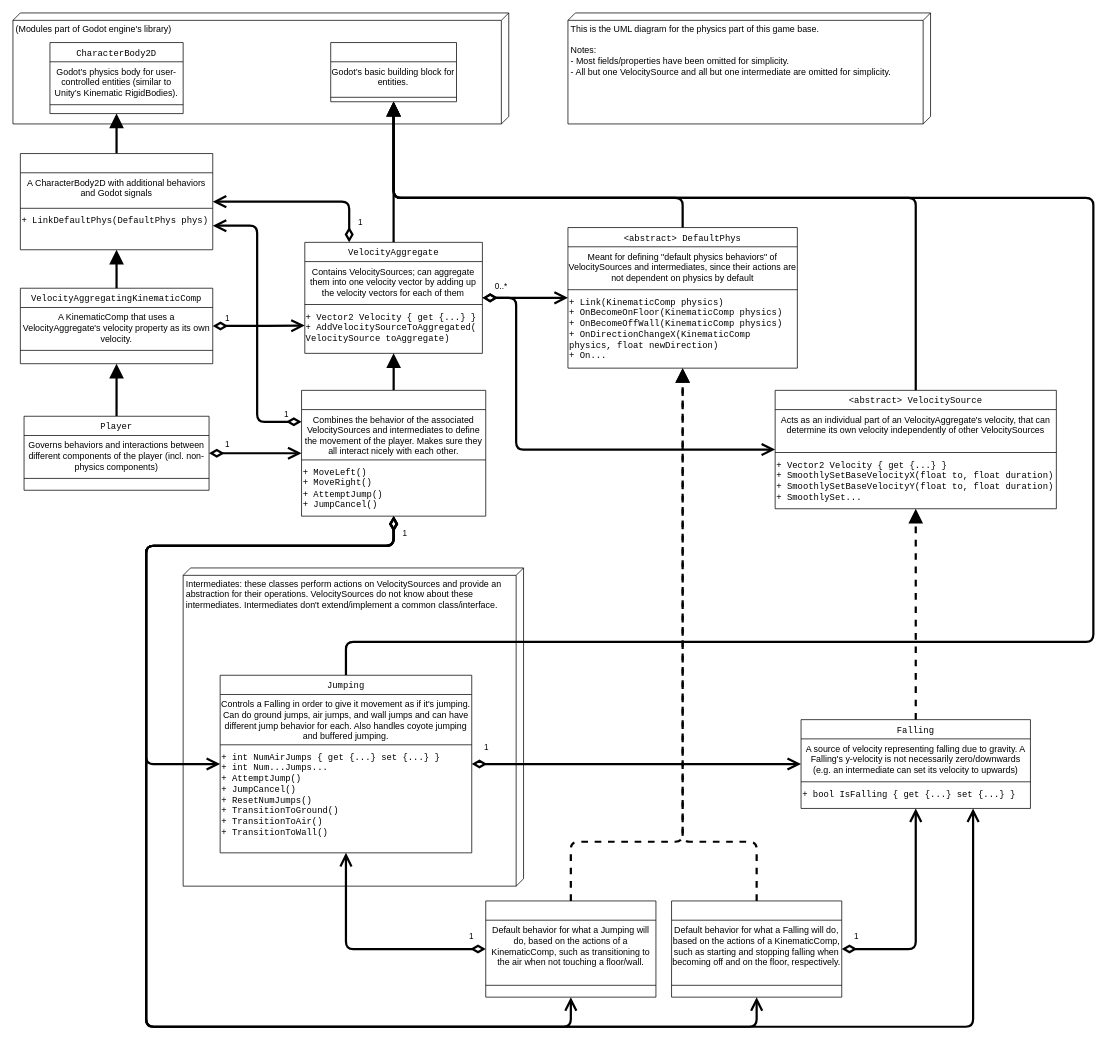
Image size: 1117x1052. Some labels were removed from this diagram. Here are the shapes that lost their labels. From the top down, the box of each, then its label:
(330, 42, 457, 102): Node
(20, 153, 213, 250): KinematicComp
(301, 390, 486, 516): PlayerVelocityAggregate
(485, 900, 656, 997): JumpingDefaultPhys
(671, 900, 842, 997): FallingDefaultPhys
